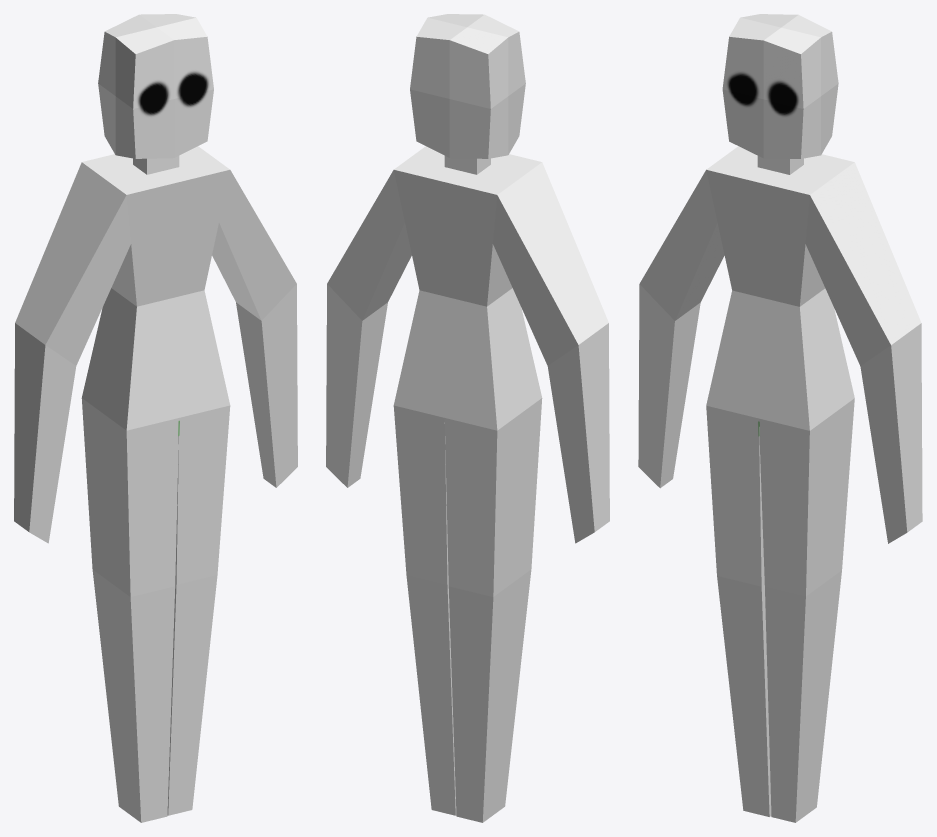
File: visitor.fbx
3 views of the same model, side by side, from view 1: azimuth 30°, elevation 25°; view 2: azimuth 150°, elevation 25°; view 3: azimuth 330°, elevation 25° (orthographic).
Parts seen in each view (by area): view 1: Cube; view 2: Cube; view 3: Cube.
Boxes of the visible parts, x1,y1,x2,y2 form: Cube: [14, 14, 297, 822]; Cube: [326, 14, 609, 822]; Cube: [638, 14, 922, 822].
Size of the model in its own units: 518 by 1440 by 150.
Materials: 1 (1 with a texture image).
